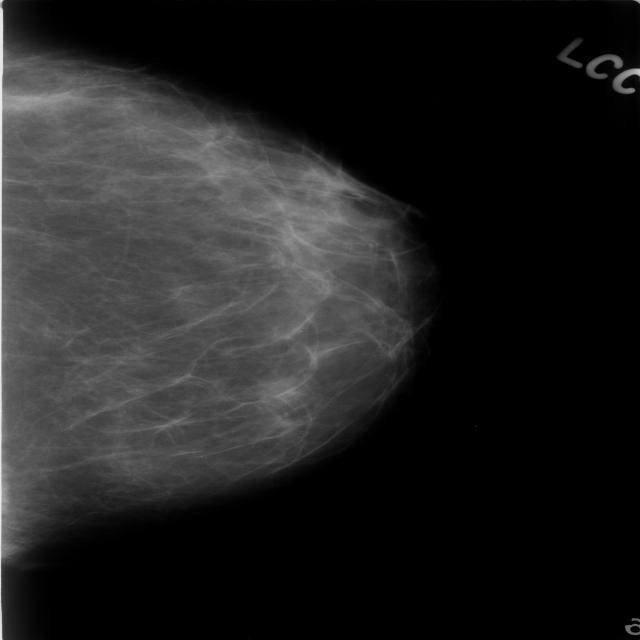normal: (0, 25, 434, 518)
